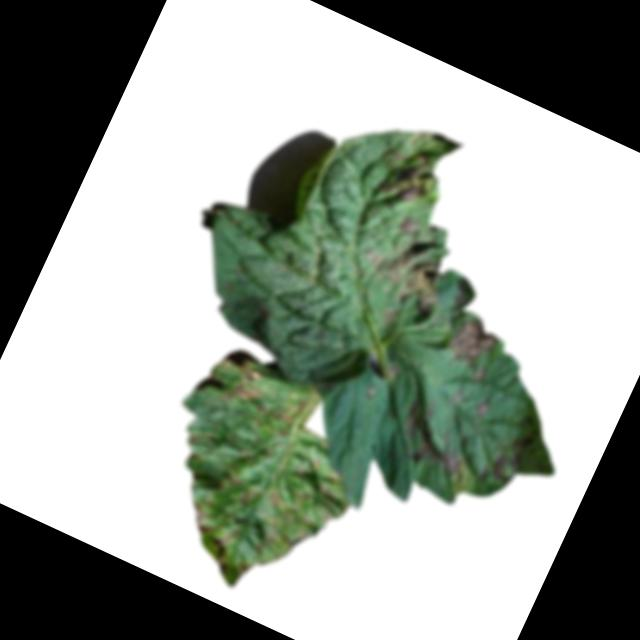Early_blight: (359, 206, 467, 315), (387, 387, 487, 483), (369, 136, 442, 209), (444, 310, 501, 372), (225, 358, 269, 407), (204, 527, 245, 578), (182, 497, 225, 539), (478, 443, 514, 488), (254, 397, 298, 430)
